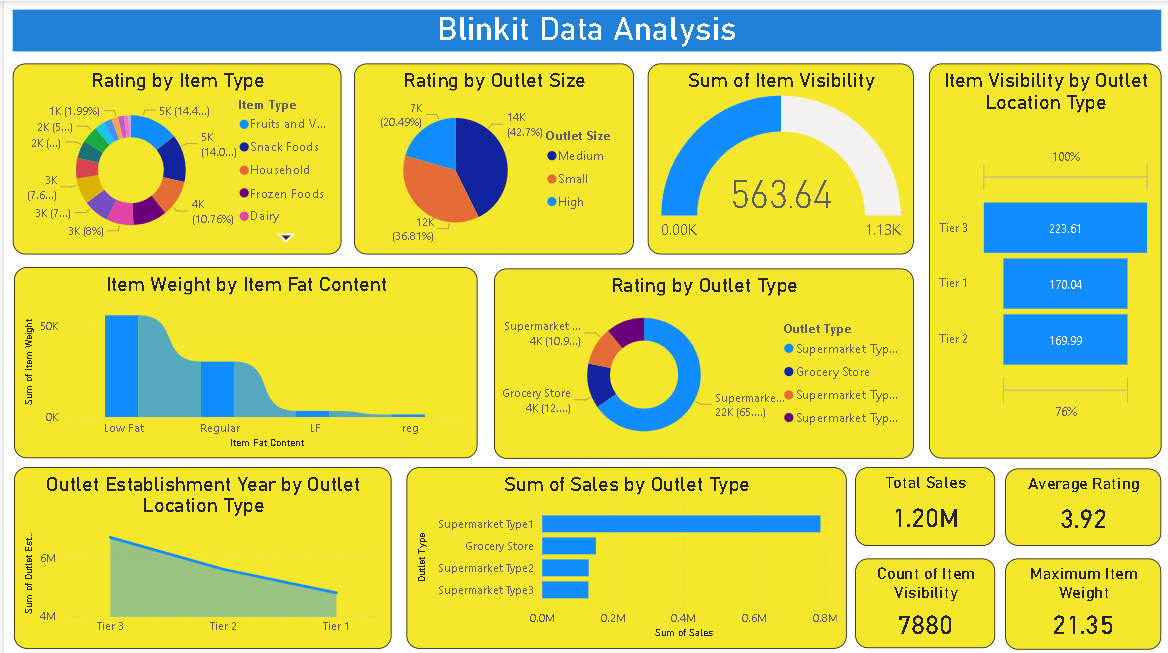

What the dashboard file says about the page in this screenshot:
{"tool":"powerbi","page":{"name":"Page 1","canvas":[1280,720],"ordinal":0},"visuals":[{"type":"textbox","title":"Blinkit Data Analysis","box":[9.6,9.6,1261.1,49.4],"z":0},{"type":"donutChart","title":"Rating by Item Type","fields":{"Y":["Sum(in.Rating)"],"Category":["in.Item Type"]},"box":[9.6,68.6,360.9,209.9],"z":1000},{"type":"pieChart","title":"Rating by Outlet Size","fields":{"Category":["in.Outlet Size"],"Y":["Sum(in.Rating)"]},"box":[384.2,68.6,307.4,209.9],"z":2000},{"type":"gauge","fields":{"Y":["Sum(in.Item Visibility)"]},"box":[706.7,68.6,292.3,209.9],"z":3000},{"type":"funnel","title":"Item Visibility by Outlet Location Type","fields":{"Category":["in.Outlet Location Type"],"Y":["Sum(in.Item Visibility)"]},"box":[1015.4,68.6,255.2,433.6],"z":4000},{"type":"ribbonChart","title":"Item Weight by Item Fat Content","fields":{"Category":["in.Item Fat Content"],"Y":["Sum(in.Item Weight)"]},"box":[11,292.3,509.1,209.9],"z":5000},{"type":"donutChart","title":"Rating by Outlet Type","fields":{"Y":["Sum(in.Rating)"],"Category":["in.Outlet Type"]},"box":[537.9,293.7,461.1,208.6],"z":6000},{"type":"areaChart","title":"Outlet Establishment Year by Outlet Location Type","fields":{"Category":["in.Outlet Location Type"],"Y":["Sum(in.Outlet Establishment Year)"]},"box":[11,511.8,414.4,199],"z":7000},{"type":"clusteredBarChart","fields":{"Category":["in.Outlet Type"],"Y":["Sum(in.Sales)"]},"box":[441.9,511.8,483,199],"z":8000},{"type":"card","title":"Total Sales","fields":{"Values":["Sum(in.Sales)"]},"box":[934.5,511.8,153.7,86.4],"z":9000},{"type":"card","title":"Average Rating","fields":{"Values":["Avg(in.Rating)"]},"box":[1099.1,513.2,171.5,85.1],"z":10000},{"type":"card","title":"Count of Item Visibility","fields":{"Values":["Count(in.Item Visibility)"]},"box":[934.5,612,153.7,98.8],"z":11000},{"type":"card","title":"Maximum Item Weight","fields":{"Values":["Max(in.Item Weight)"]},"box":[1099.1,612,171.5,100.2],"z":12000}]}

Visuals, with their boxes in screenshot pixels (x1, y1, x2, y2), scaled from the page's 1280x720 canvas onto the 1168x653 screenshot:
"Blinkit Data Analysis" textbox: (9,9,1160,54)
"Rating by Item Type" donutChart: (9,62,338,253)
"Rating by Outlet Size" pieChart: (351,62,631,253)
gauge - Sum(in.Item Visibility): (645,62,912,253)
"Item Visibility by Outlet Location Type" funnel: (927,62,1159,455)
"Item Weight by Item Fat Content" ribbonChart: (10,265,475,455)
"Rating by Outlet Type" donutChart: (491,266,912,456)
"Outlet Establishment Year by Outlet Location Type" areaChart: (10,464,388,645)
clusteredBarChart - in.Outlet Type x Sum(in.Sales): (403,464,844,645)
"Total Sales" card: (853,464,993,543)
"Average Rating" card: (1003,465,1159,543)
"Count of Item Visibility" card: (853,555,993,645)
"Maximum Item Weight" card: (1003,555,1159,646)
